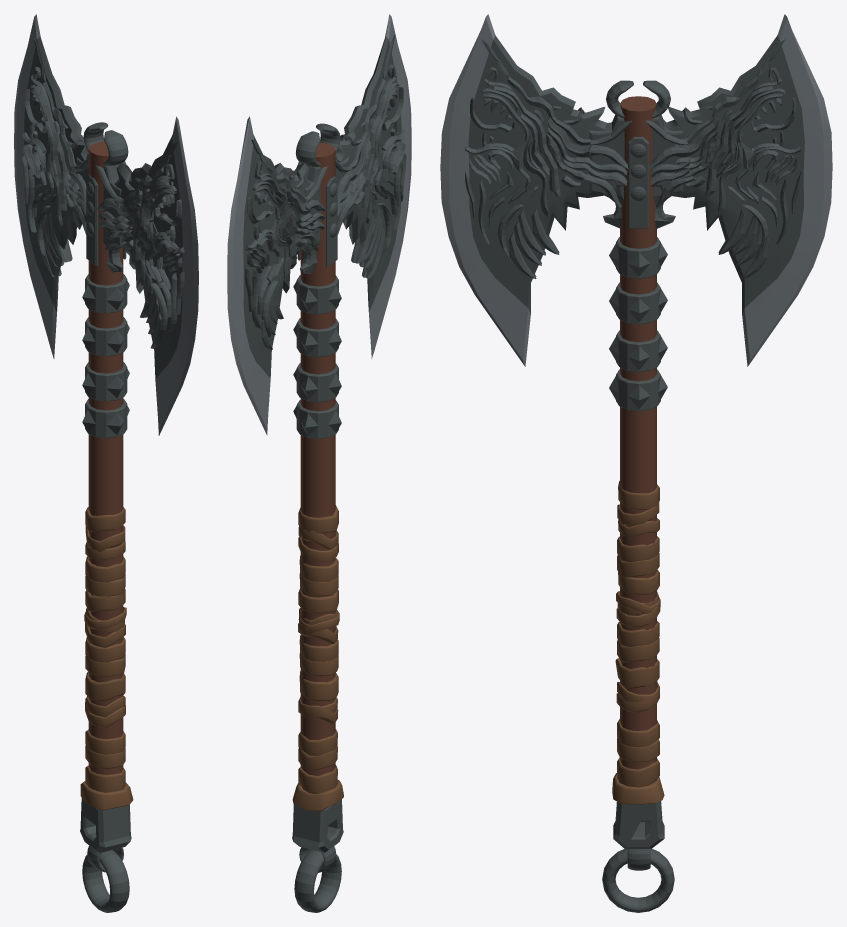
3 views of the same model, side by side, from view 1: azimuth 30°, elevation 25°; view 2: azimuth 150°, elevation 25°; view 3: azimuth 270°, elevation 25° (orthographic). The views are drawn at different scales.
Visible parts, largest first — view 1: polySurface11570, polySurface11804, polySurface11544, polySurface10866; view 2: polySurface11570, polySurface11804, polySurface11544, polySurface10866; view 3: polySurface11804, polySurface11570, polySurface11544, polySurface10866.
Part boxes in pixels (bbox=[...]): polySurface11570: bbox=[22, 37, 184, 912]; polySurface11804: bbox=[14, 14, 198, 435]; polySurface11544: bbox=[80, 507, 133, 810]; polySurface10866: bbox=[88, 141, 123, 774]; polySurface11570: bbox=[245, 35, 406, 912]; polySurface11804: bbox=[227, 14, 411, 435]; polySurface11544: bbox=[292, 505, 343, 811]; polySurface10866: bbox=[300, 143, 335, 793]; polySurface11804: bbox=[440, 14, 832, 366]; polySurface11570: bbox=[465, 39, 801, 912]; polySurface11544: bbox=[612, 481, 664, 804]; polySurface10866: bbox=[620, 96, 656, 783].
Size of the model in its own units: 1.02 by 17.01 by 6.74.
